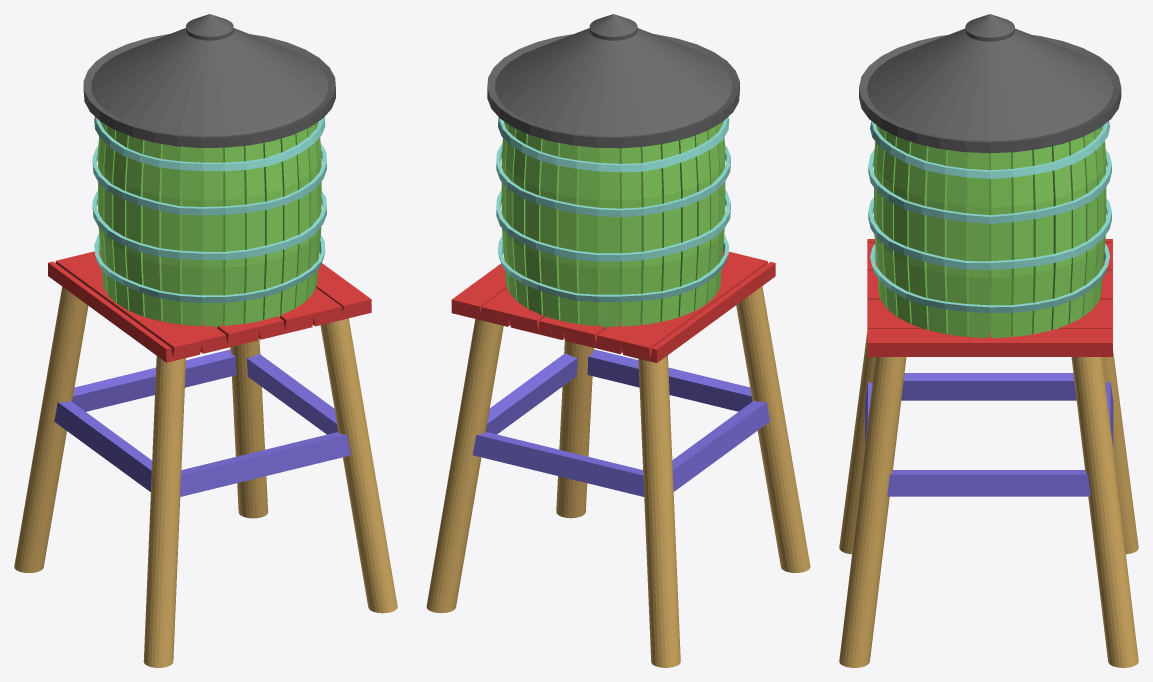
The model's file is WaterTower_MOD_0007.fbx.
3 views of the same model, side by side, from view 1: azimuth 30°, elevation 25°; view 2: azimuth 150°, elevation 25°; view 3: azimuth 270°, elevation 25° (orthographic). The views are drawn at different scales.
Visible parts, largest first — view 1: Tank, Legs, Cap, Support, Floor, Tank2; view 2: Tank, Legs, Cap, Support, Floor, Tank2; view 3: Tank, Cap, Legs, Support, Tank2, Floor.
Boxes of the visible parts, x1,y1,x2,y2 form: Tank: (98,121,321,327); Legs: (14,286,397,667); Cap: (83,14,335,147); Support: (54,349,350,496); Floor: (48,250,371,362); Tank2: (92,117,326,302); Tank: (501,121,725,328); Legs: (426,286,810,667); Cap: (487,14,739,148); Support: (472,349,770,496); Floor: (451,250,775,362); Tank2: (496,117,730,302); Tank: (874,125,1106,337); Cap: (859,14,1121,153); Legs: (839,332,1138,667); Support: (865,373,1113,496); Tank2: (868,121,1111,312); Floor: (867,239,1112,356).
Bounding box in the file's own units: 780 × 1704 × 780.
